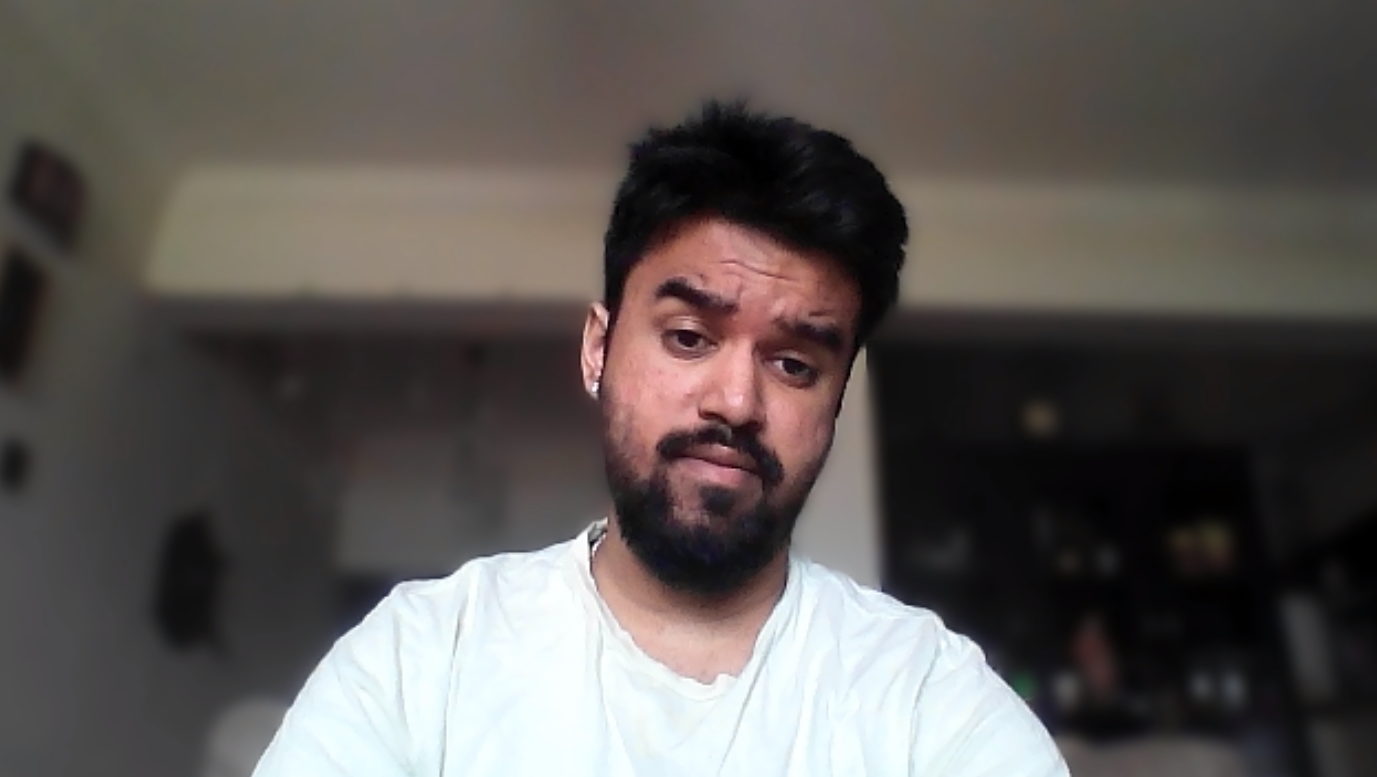NoMask: (603, 391, 848, 576)
